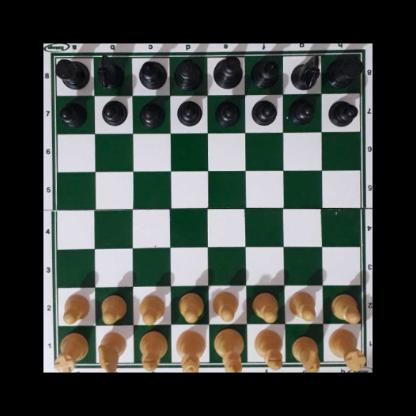black-bishop: (249, 59, 281, 89), (137, 61, 168, 89)
black-king: (211, 55, 243, 89)
black-knight: (291, 52, 320, 92), (96, 53, 123, 90)
black-pawn: (328, 98, 357, 127), (288, 97, 315, 124), (101, 98, 127, 126), (252, 97, 277, 125), (59, 100, 85, 126), (176, 100, 202, 126), (139, 100, 164, 127), (215, 99, 239, 126)
black-queen: (173, 57, 204, 91)
black-rook: (52, 56, 89, 89), (328, 51, 361, 87)
white-bishop: (253, 329, 282, 369), (139, 329, 165, 369)
white-king: (214, 328, 245, 373)
white-knight: (98, 331, 124, 370), (291, 335, 319, 371)
white-pawn: (211, 291, 239, 323), (289, 289, 317, 320), (331, 293, 360, 322), (61, 293, 89, 323), (138, 293, 164, 324), (252, 291, 278, 321), (100, 294, 126, 323), (178, 292, 203, 322)
white-queen: (175, 328, 206, 373)
white-rook: (330, 327, 364, 371), (55, 328, 87, 372)
